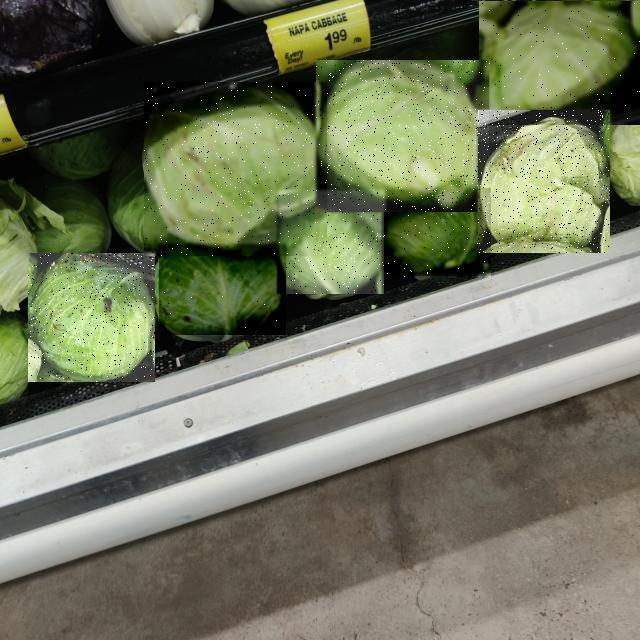Cabbage: (144, 82, 327, 256), (316, 60, 489, 212), (479, 1, 640, 125), (479, 110, 611, 253), (28, 253, 155, 382), (159, 244, 286, 335), (278, 191, 386, 295), (385, 188, 491, 278)
